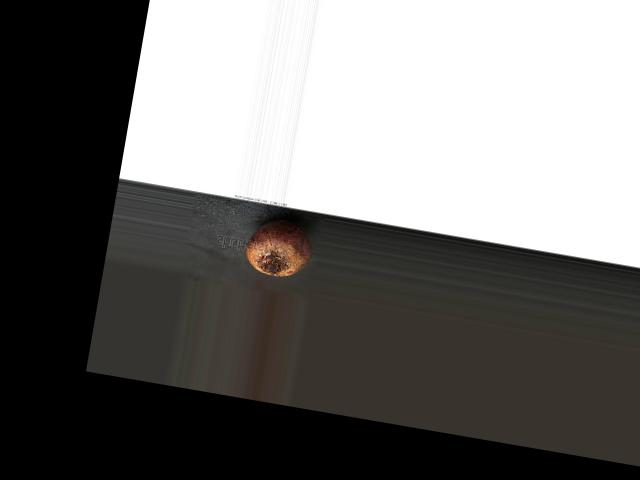beet: (243, 215, 317, 281)
